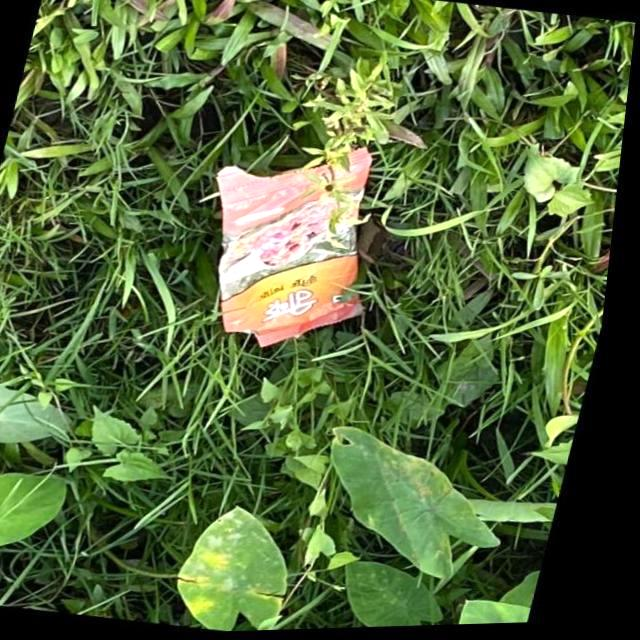packet: (198, 140, 394, 365)
